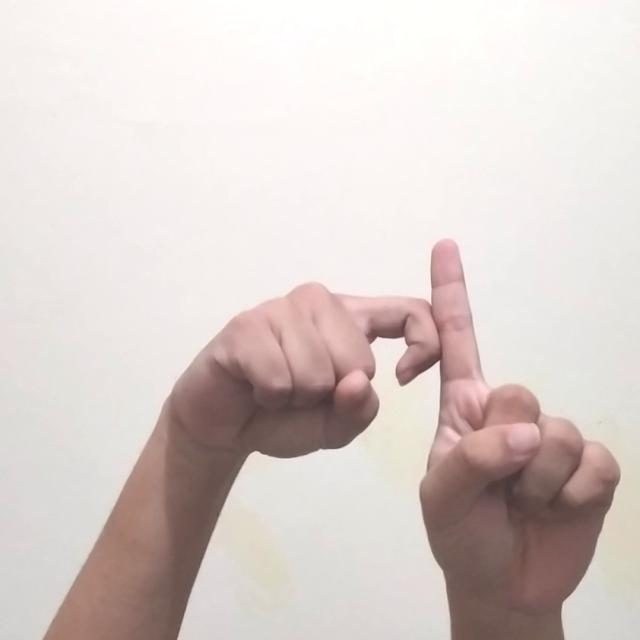K: (156, 233, 625, 611)
